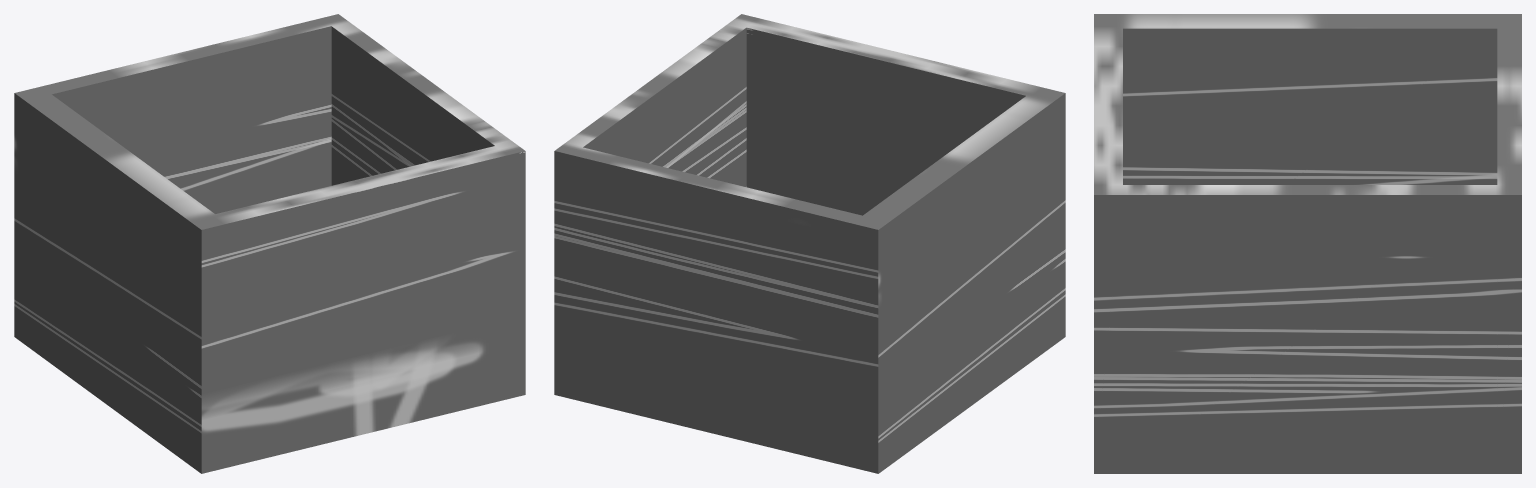
The model's file is arene.glb.
3 views of the same model, side by side, from view 1: azimuth 30°, elevation 25°; view 2: azimuth 150°, elevation 25°; view 3: azimuth 270°, elevation 25° (orthographic). The views are drawn at different scales.
Visible parts, largest first — view 1: Arene; view 2: Arene; view 3: Arene.
Part boxes in pixels (left/top/right/bottom): Arene: left=14, top=14, right=525, bottom=473; Arene: left=554, top=14, right=1065, bottom=473; Arene: left=1094, top=14, right=1521, bottom=473.
Size of the model in its own units: 147 by 106 by 147.
1 material, 1 textured.
